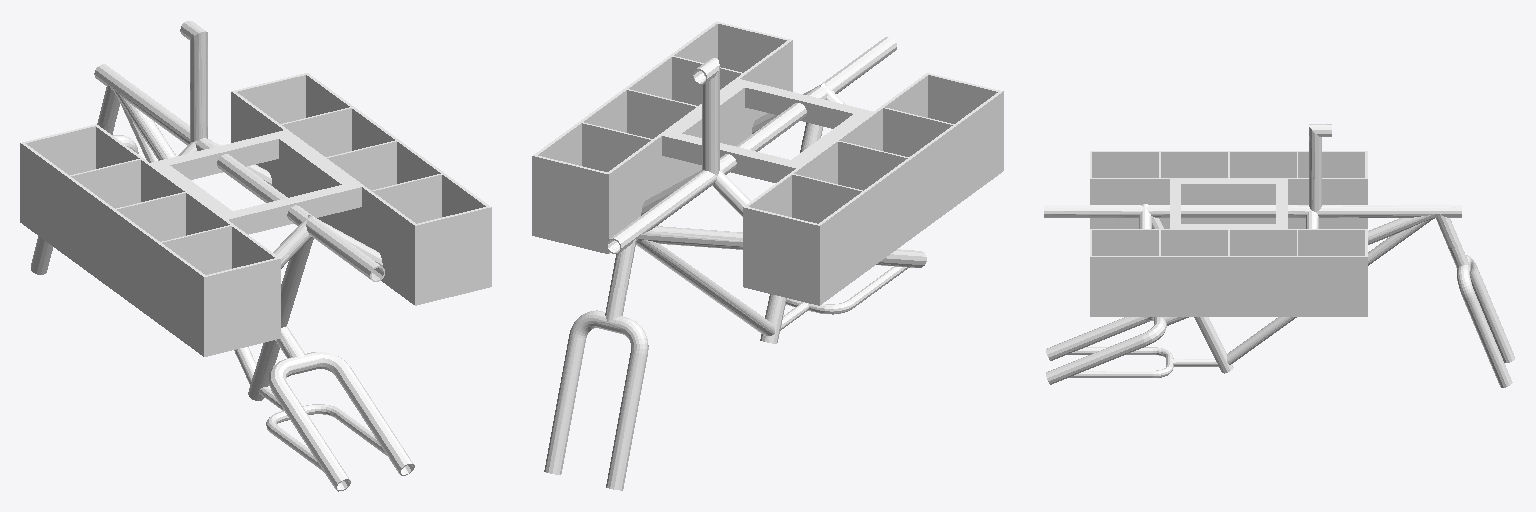
URDF robot description (DB_assembly1_modified):
<?xml version="1.0" encoding="utf-8"?>
<!-- This URDF was automatically created by SolidWorks to URDF Exporter! Originally created by [author] ([email redacted]) 
     Commit Version: 1.6.0-1-g15f4949  Build Version: 1.6.7594.29634
     For more information, please see http://wiki.ros.org/sw_urdf_exporter -->
<robot
  name="DB_assembly1_modified">
  <link
    name="base_link">
    <inertial>
      <origin
        xyz="-4.8736E-07 -0.057648 0.093793"
        rpy="0 0 0" />
      <mass
        value="6.3568" />
      <inertia
        ixx="0.176"
        ixy="-7.1029E-07"
        ixz="8.8421E-07"
        iyy="0.28992"
        iyz="0.011733"
        izz="0.16674" />
    </inertial>
    <visual>
      <origin
        xyz="0 0 0"
        rpy="0 0 0" />
      <geometry>
        <mesh
          filename="package://DB_assembly1_modified/meshes/base_link.STL" />
      </geometry>
      <material
        name="">
        <color
          rgba="1 1 1 1" />
      </material>
    </visual>
    <collision>
      <origin
        xyz="0 0 0"
        rpy="0 0 0" />
      <geometry>
        <mesh
          filename="package://DB_assembly1_modified/meshes/base_link.STL" />
      </geometry>
    </collision>
  </link>
  <link
    name="fork1">
    <inertial>
      <origin
        xyz="0.051876 -0.13579 9.0586E-08"
        rpy="0 0 0" />
      <mass
        value="0.15538" />
      <inertia
        ixx="0.001087"
        ixy="0.00029044"
        ixz="6.7429E-10"
        iyy="0.00043765"
        iyz="-1.2132E-09"
        izz="0.00089018" />
    </inertial>
    <visual>
      <origin
        xyz="0 0 0"
        rpy="0 0 0" />
      <geometry>
        <mesh
          filename="package://DB_assembly1_modified/meshes/fork1.STL" />
      </geometry>
      <material
        name="">
        <color
          rgba="1 1 1 1" />
      </material>
    </visual>
    <collision>
      <origin
        xyz="0 0 0"
        rpy="0 0 0" />
      <geometry>
        <mesh
          filename="package://DB_assembly1_modified/meshes/fork1.STL" />
      </geometry>
    </collision>
  </link>
  <joint
    name="frontWheel_Motor"
    type="revolute">
    <origin
      xyz="0 0.30671 -0.05581"
      rpy="1.5903 0.00049669 1.5198" />
    <parent
      link="base_link" />
    <child
      link="fork1" />
    <axis
      xyz="0.35687 -0.93416 0" />
    <limit
      lower="0"
      upper="0"
      effort="0"
      velocity="0" />
  </joint>
</robot>

--- Facts derived from the render (not from the file) ---
Views: 3 orthographic renders of the robot side by side, from view 1: azimuth 30°, elevation 25°; view 2: azimuth 150°, elevation 25°; view 3: azimuth 270°, elevation 25°.
Robot: DB_assembly1_modified — 2 links, 1 joints (1 revolute); root link base_link; default pose: every joint at zero.
Links seen in each view (by area): view 1: base_link, fork1; view 2: base_link, fork1; view 3: base_link, fork1.
Boxes of the visible links, x1,y1,x2,y2 form: base_link: [20, 21, 491, 491]; fork1: [31, 119, 138, 274]; base_link: [532, 21, 1003, 343]; fork1: [544, 285, 648, 490]; base_link: [1044, 124, 1461, 384]; fork1: [1448, 243, 1514, 387].
Size in the robot's own frame: 0.451 by 0.8459 by 0.4959 metres.
Meshes: 2 distinct files referenced, 2 mesh visuals loaded (2 binary STL).